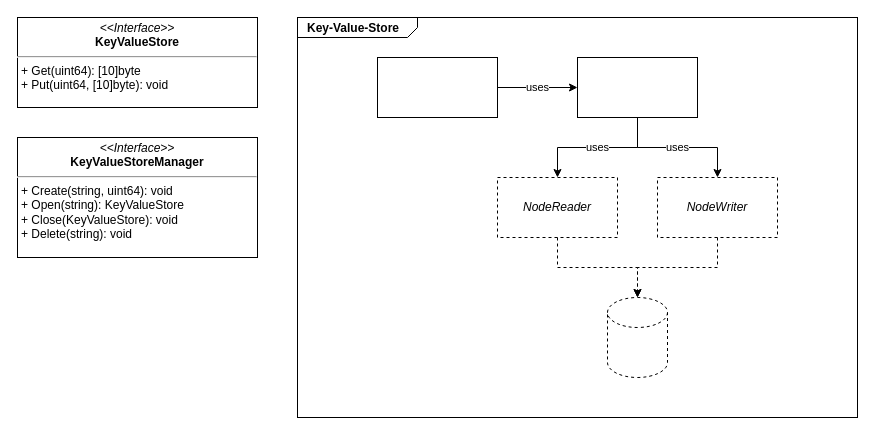
Image size: 875x435. Some labels were removed from this diagram. The box of each missing label's shape, as (x1, y1, x2, y2) in pixels:
BTree: (376, 56, 498, 118)
BufferManager: (576, 56, 698, 118)
Disk: (606, 296, 668, 378)
